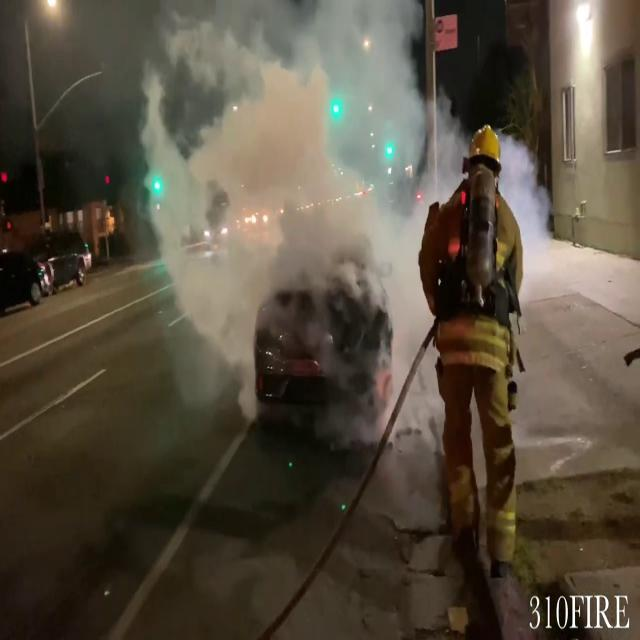Smoke: (127, 0, 446, 446)
